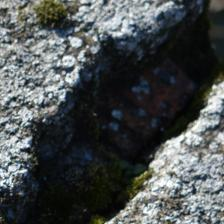Crack: (0, 62, 106, 158), (0, 53, 68, 166), (86, 78, 126, 208)
